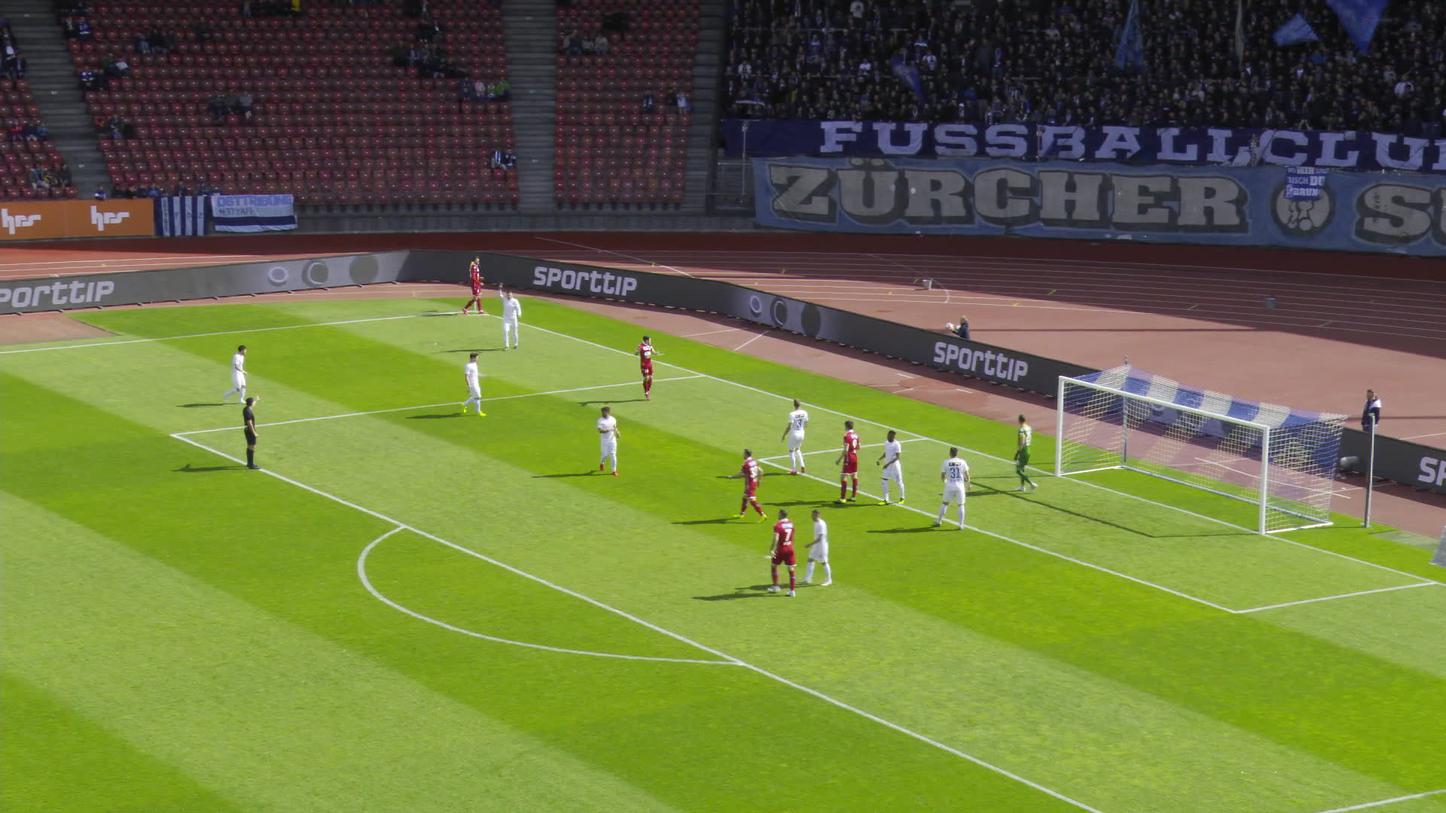ball: (945, 322, 953, 330)
player: (765, 510, 801, 597), (938, 447, 970, 532), (781, 399, 813, 475), (734, 447, 766, 522), (876, 431, 907, 507), (837, 422, 865, 504), (806, 510, 834, 586), (459, 352, 490, 418), (1013, 414, 1037, 493), (498, 283, 525, 351), (633, 337, 661, 400), (596, 406, 620, 474), (223, 345, 249, 404), (466, 257, 487, 315)
referee: (243, 397, 264, 470)
